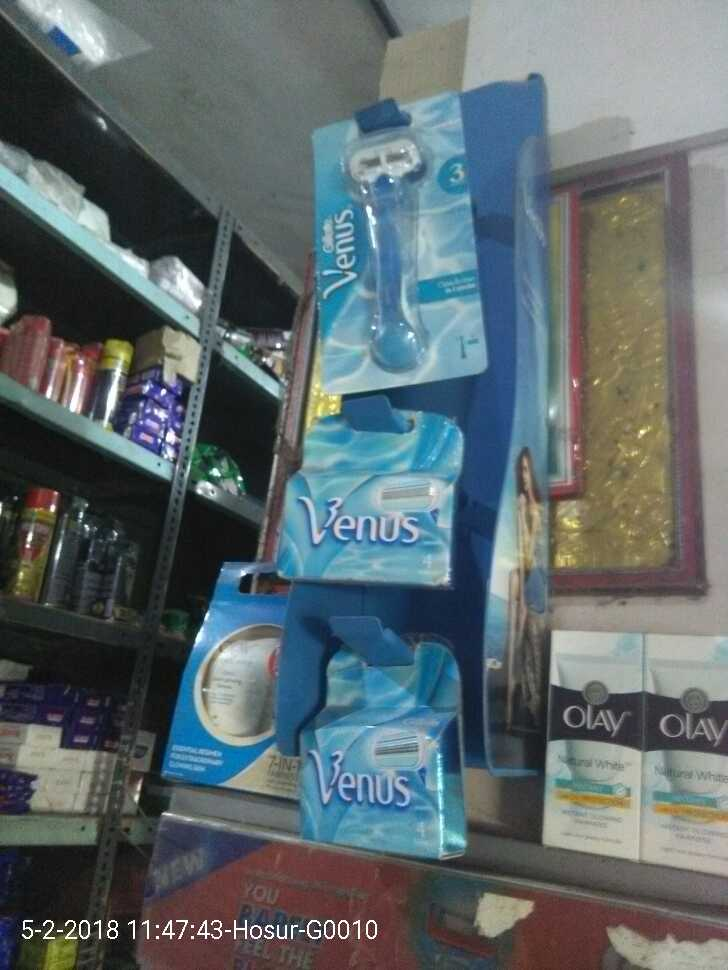beauty: (313, 87, 488, 387), (286, 648, 470, 859), (289, 407, 448, 601), (536, 619, 639, 857), (641, 631, 728, 874)
